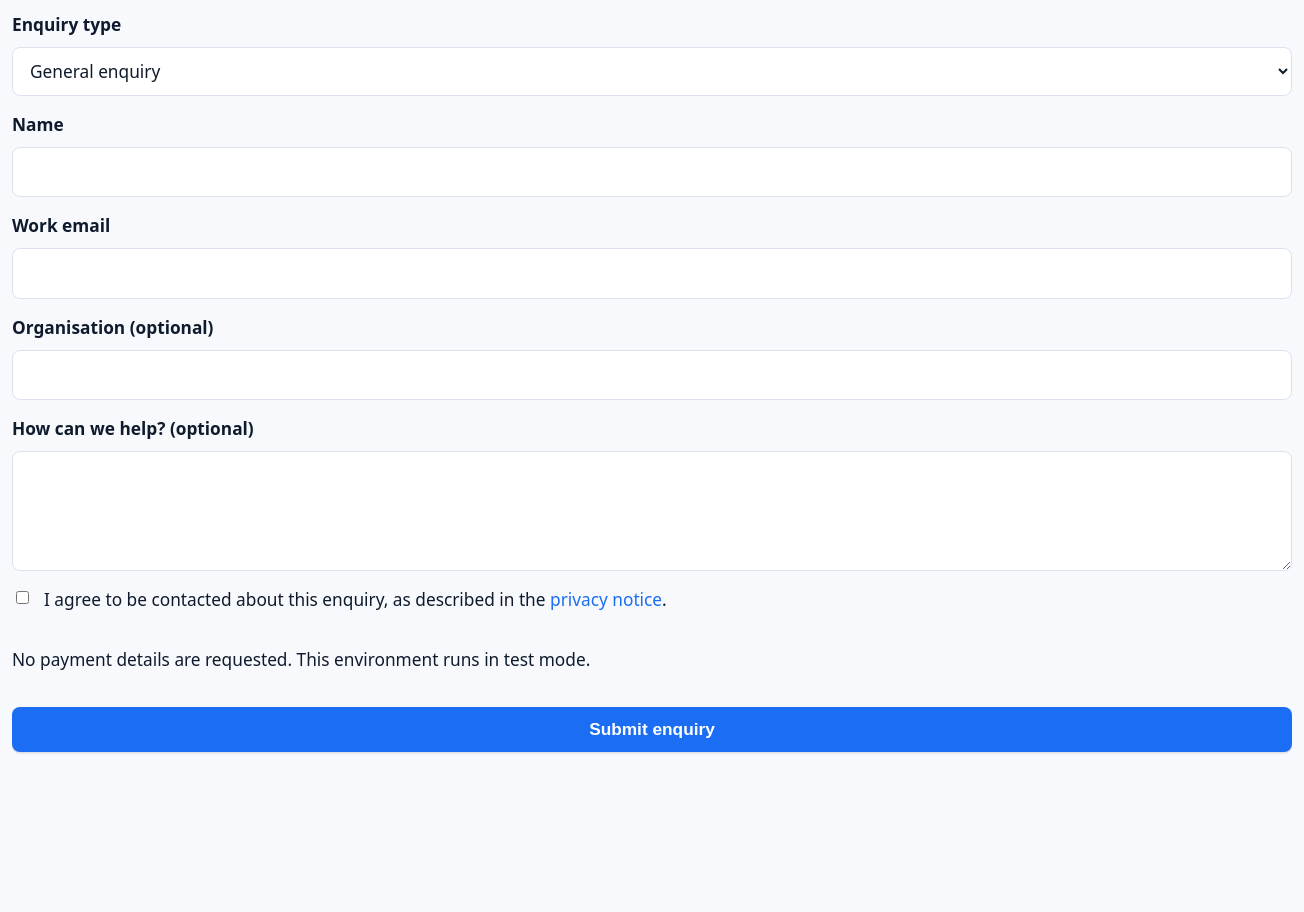
Test: LeadForm › submits successfully and shows confirmation
In the field labelled "Name": (652, 172) 12,147 -> 1292,197, type "Grace Hopper"
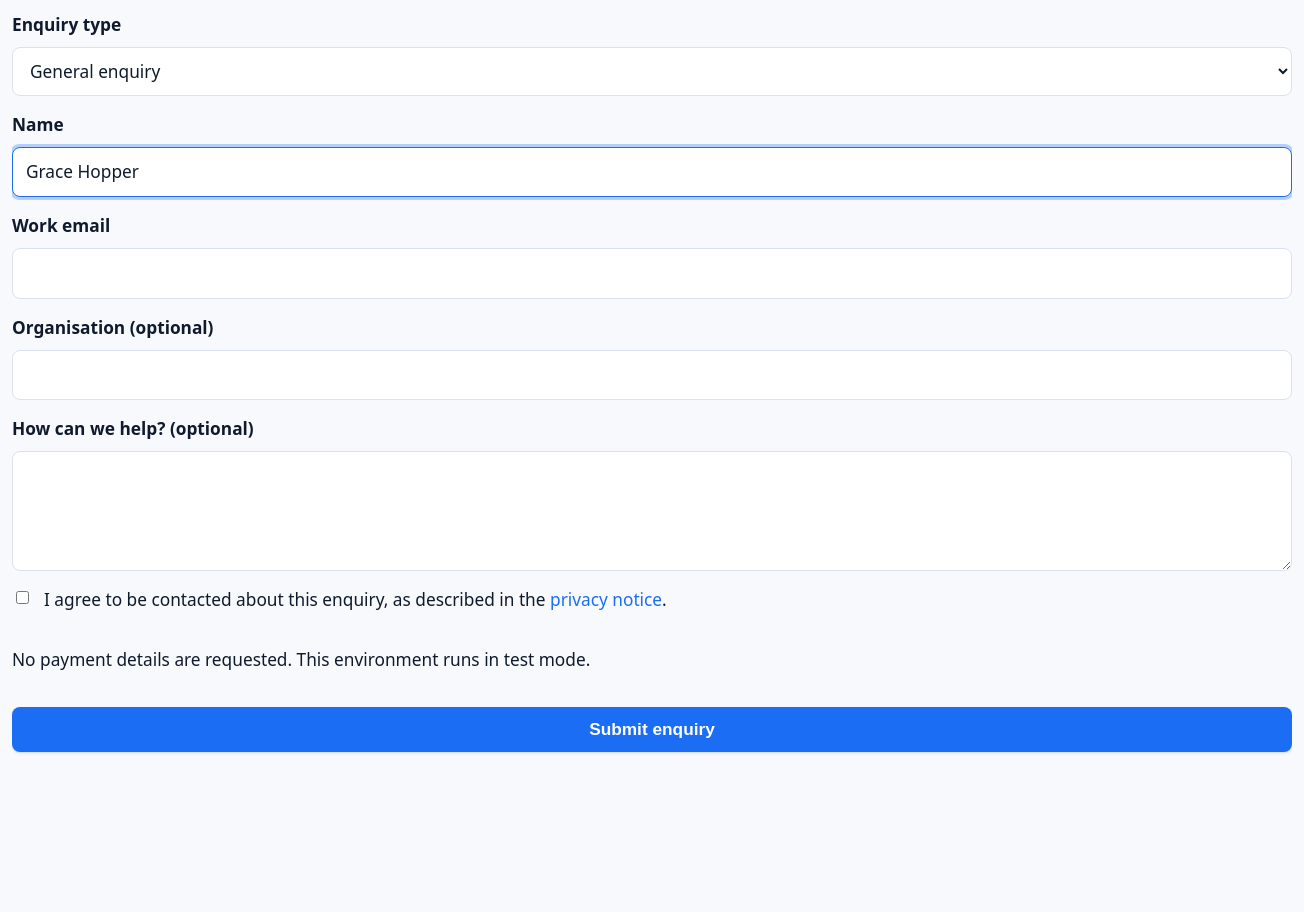
In the field labelled "Work email": (652, 274) 12,248 -> 1292,299, type "grace@viger.cloud"
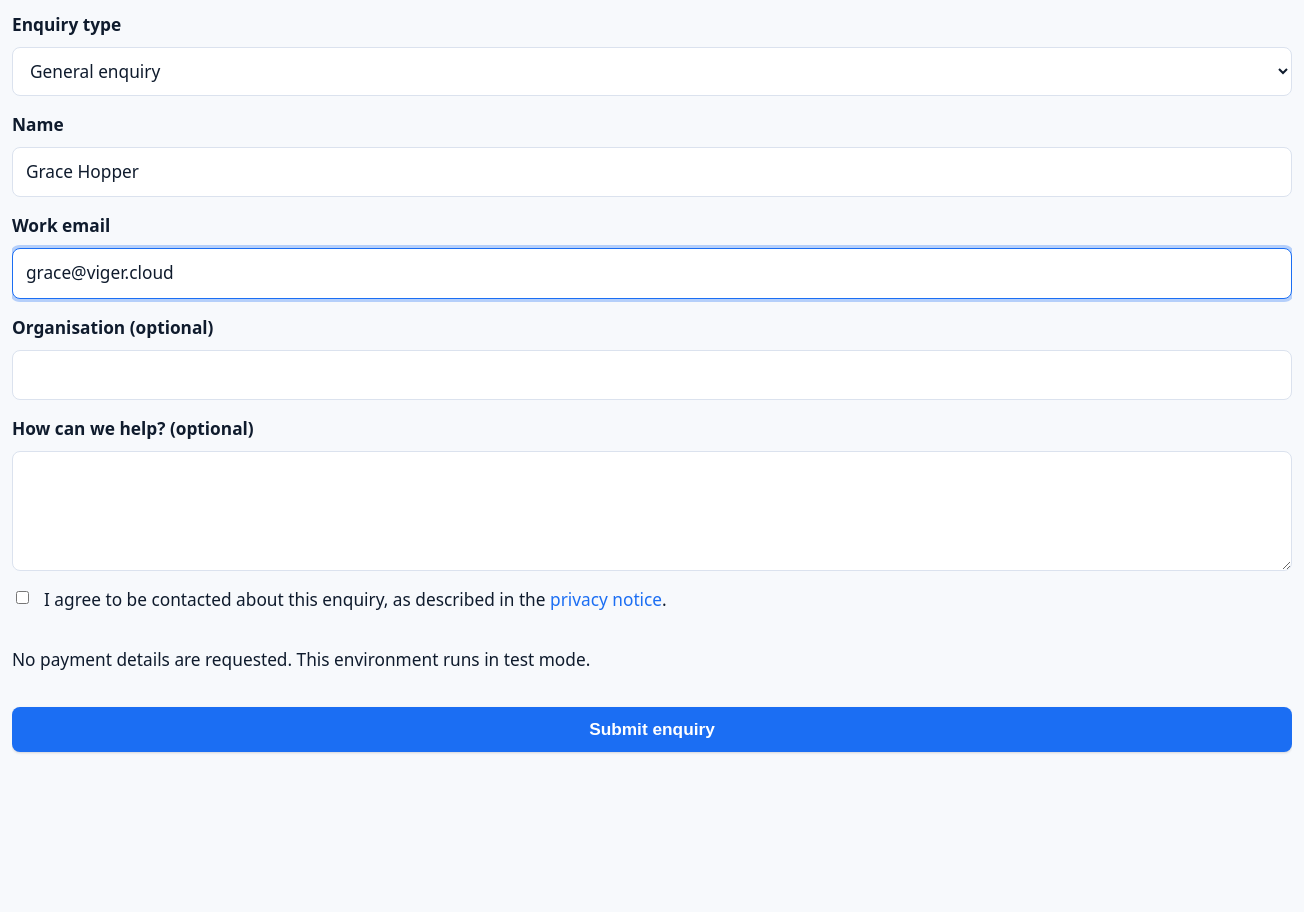
Click the checkbox labelled "agree to be contacted": (22, 598) 16,591 -> 29,604
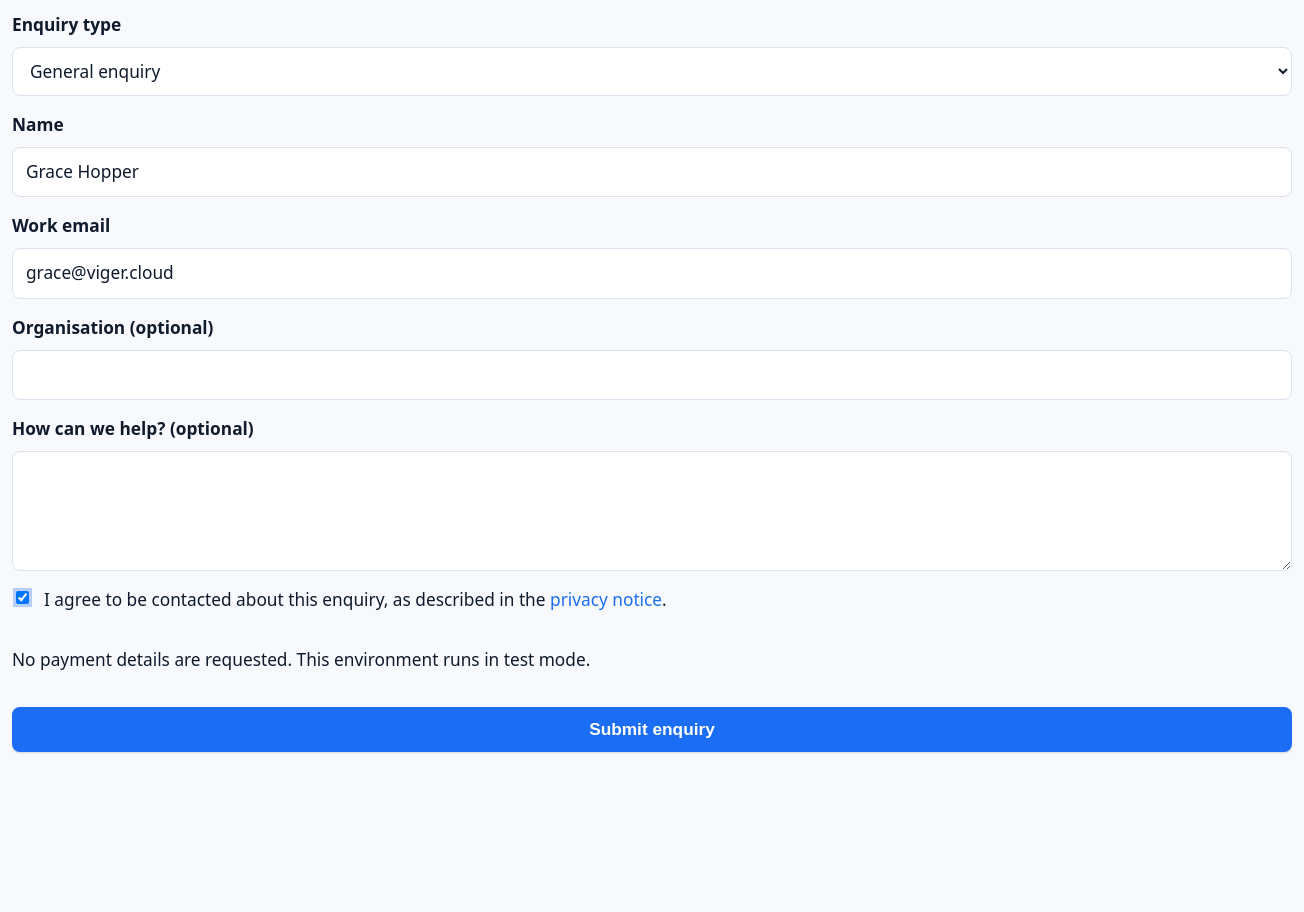
Click the button "Submit enquiry": (652, 730) 12,707 -> 1292,752
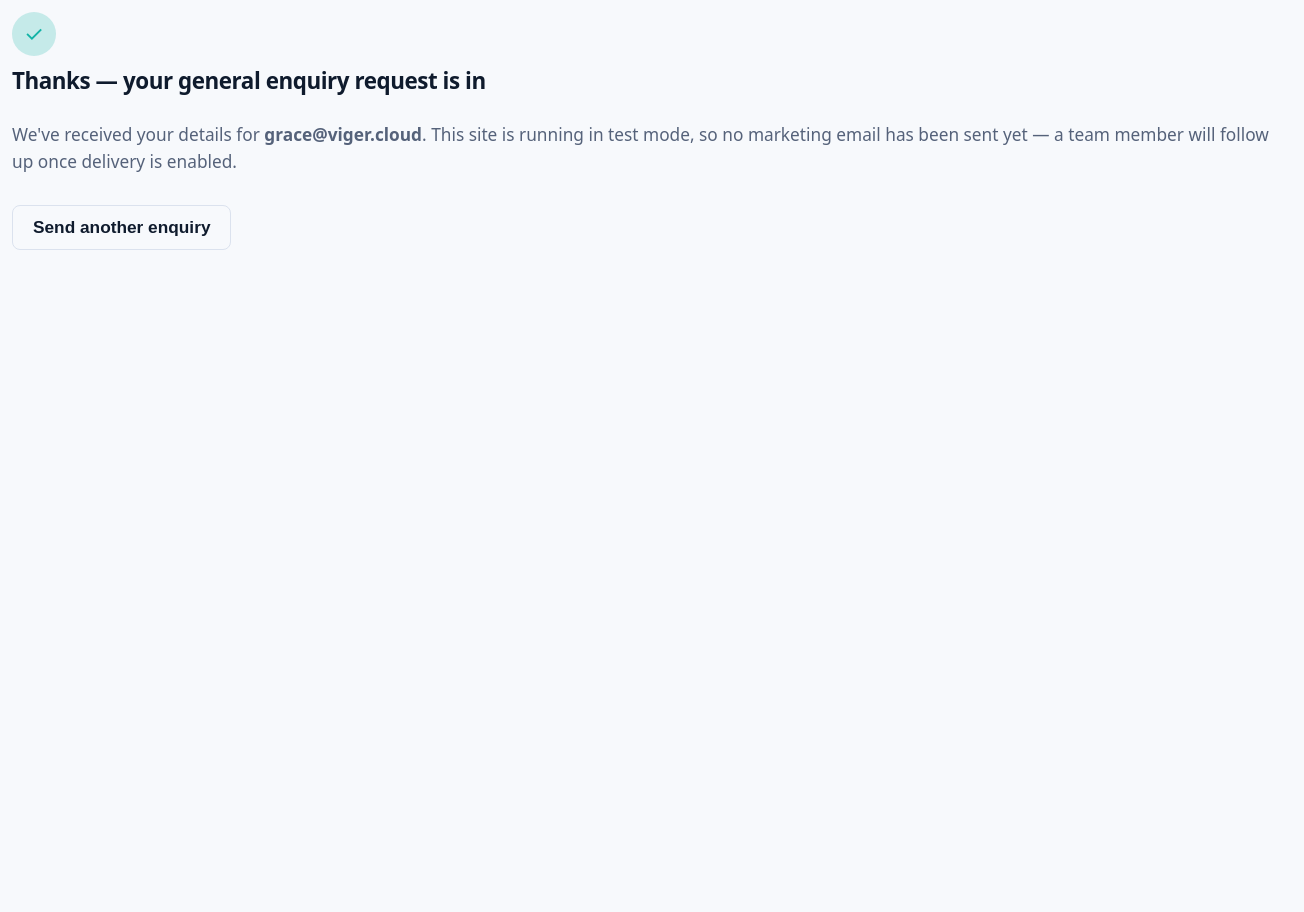
Result: the message shows "request is in" at 349,65 -> 486,96
Result: the text "grace@viger.cloud" is shown at 264,123 -> 422,146
